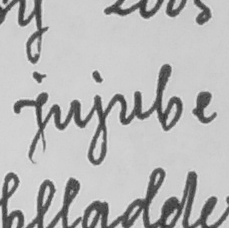b: (152, 62, 186, 133)
e: (191, 89, 219, 125)
j: (12, 90, 52, 166), (86, 92, 110, 168)
u: (114, 87, 145, 127), (50, 96, 85, 131)
